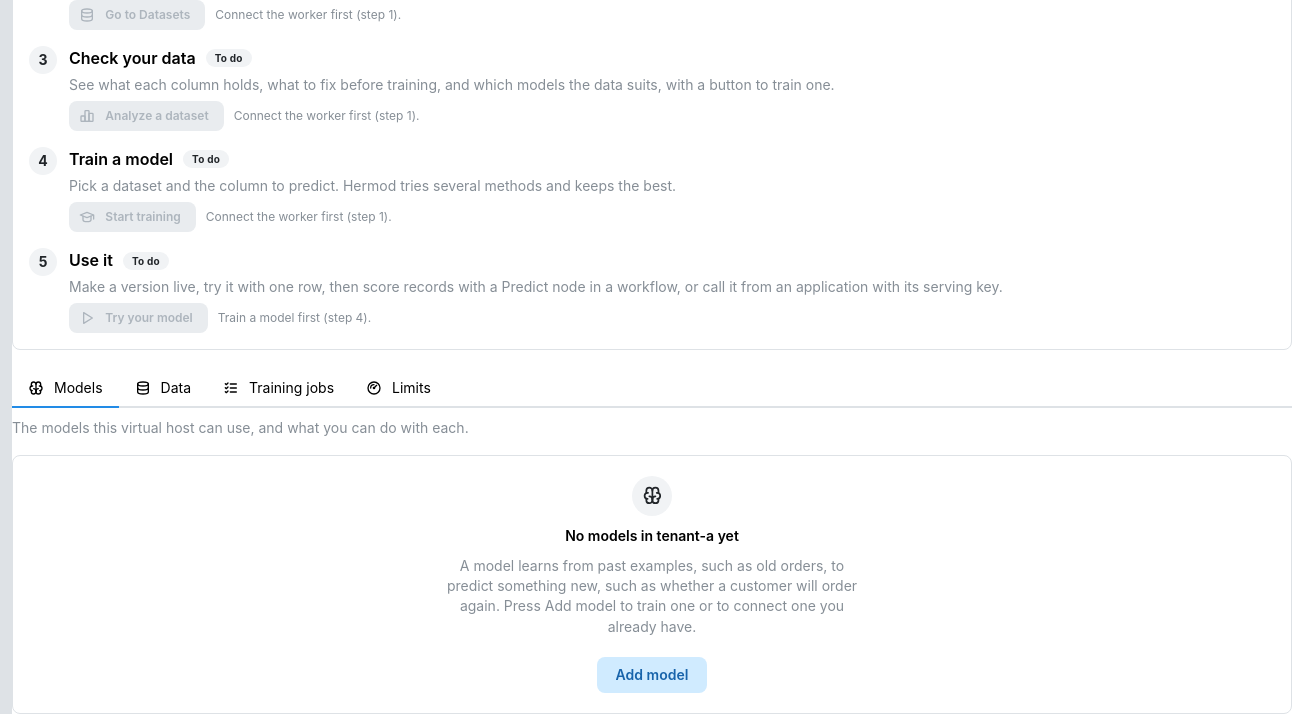
Test: Models page › puts datasets, jobs and limits on their own tabs, each saying what it is for
The width and height of the screenshot is (1292, 714).
(page scrolled)
Expected: the element "ML quotas" is not shown
Click the tab "Limits" at (398, 389), box [350,370,447,408]
(page scrolled)
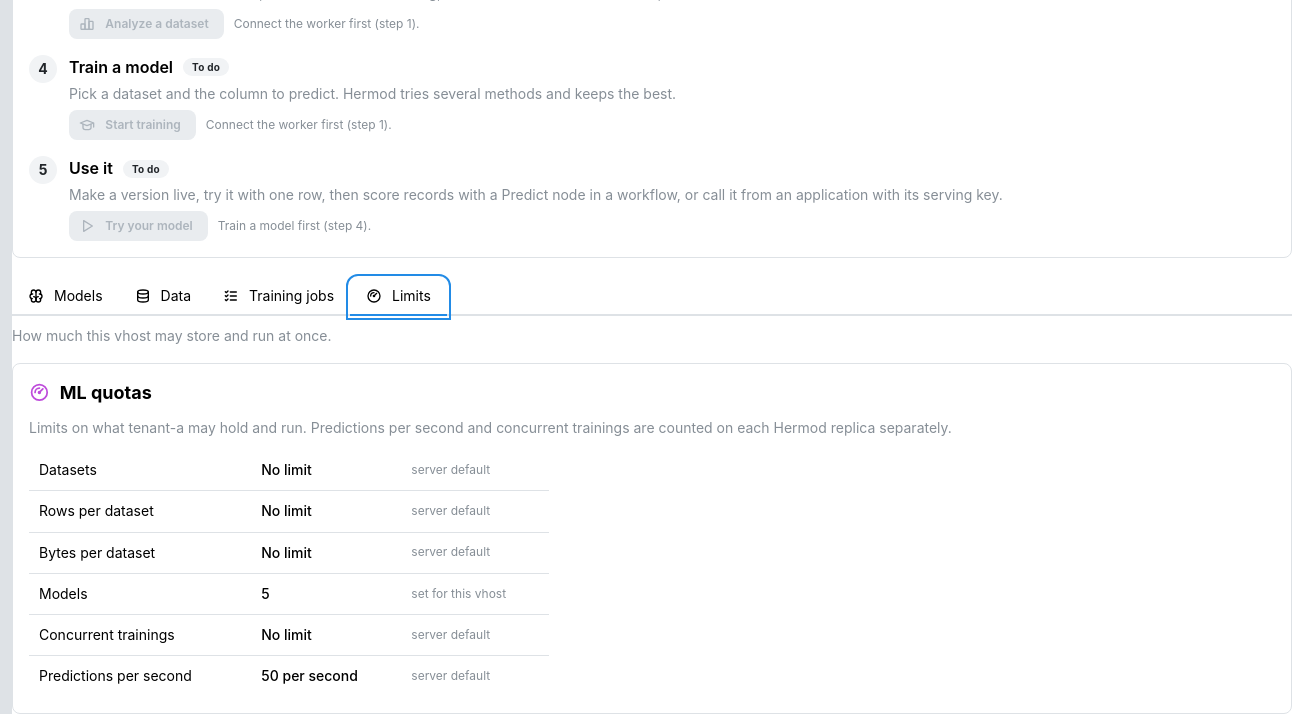
Expected: the element "ML quotas" is shown, [12,362,1291,713]
